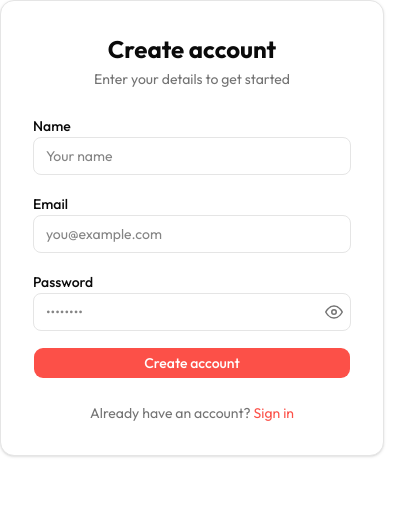
Test case: RegisterForm › shows error when auto-login fails after registration
Type "Tim" into the field labelled "Name" at (192, 156), box [33,137,351,175]
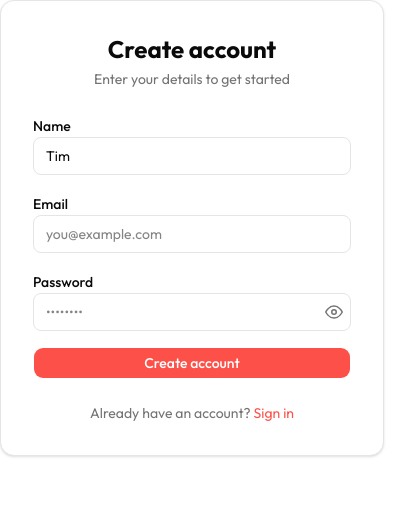
Type "tim@test.com" into the field labelled "Email" at (192, 234), box [33,215,351,253]
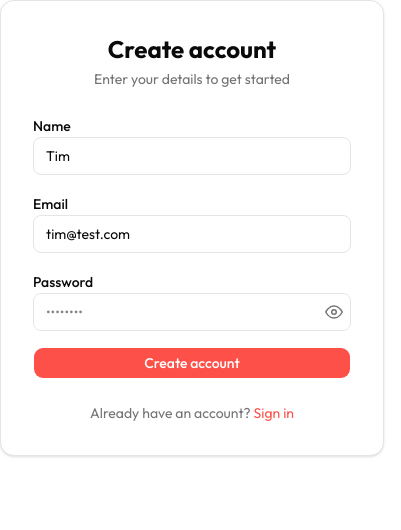
Type "password123" into the password field labelled "Password" at (192, 312), box [33,293,351,331]
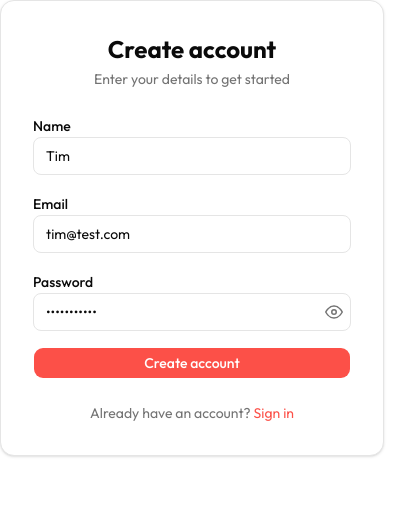
Submit the form "Name Email Password Create account", box [33,113,351,379]
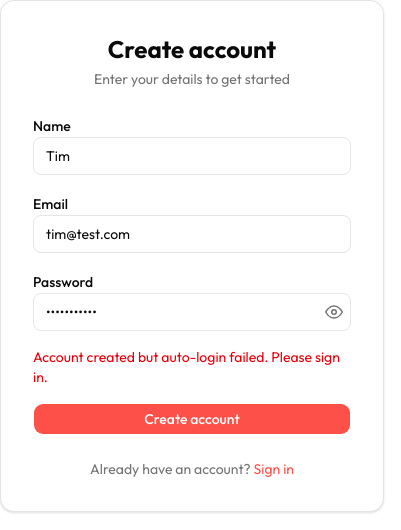
Expected: the text "Account created but auto-login failed. Please sign in." is shown, [33,347,351,387]
